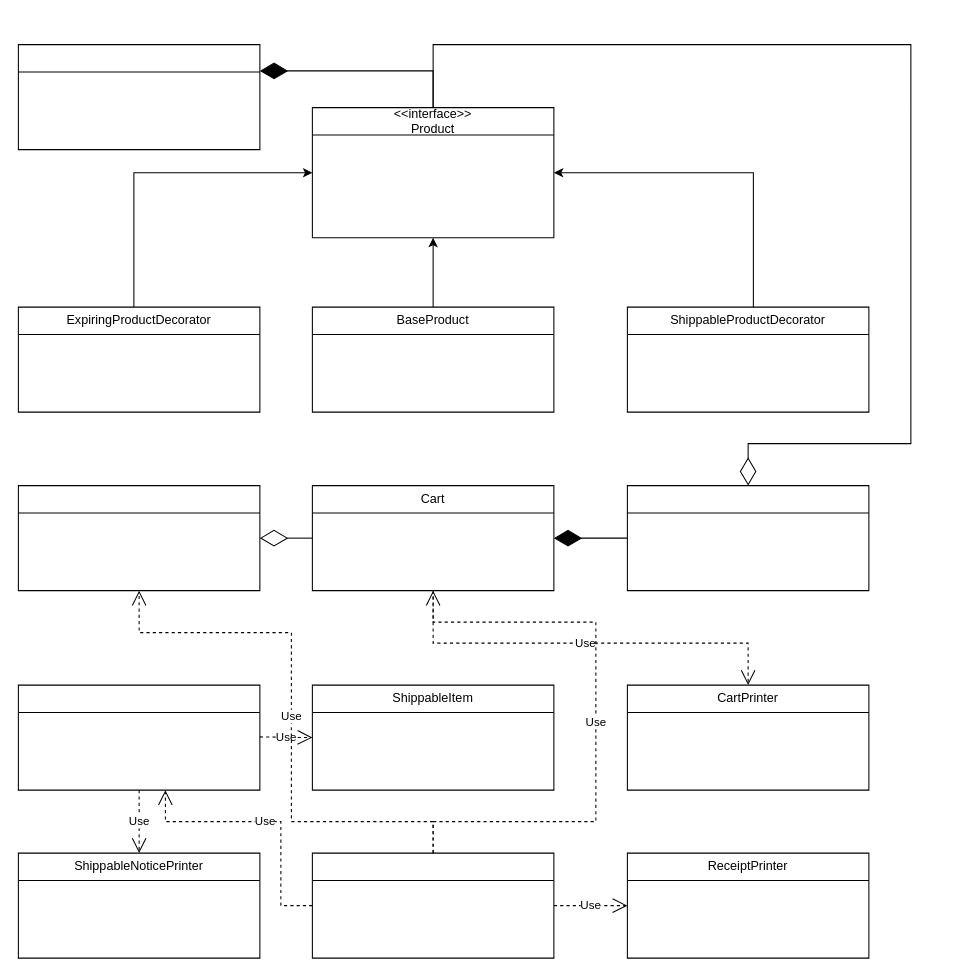
This 957x976 diagram has some shape labels left out. The shapes that lost their labels are listed below. From the top down, each one's box as (x1, y1, x2, y2) in pixels, then its label:
(17, 44, 260, 150): ProductCatalog
(17, 485, 260, 591): Customer
(626, 485, 869, 591): CartItem
(17, 684, 260, 790): ShippingService
(311, 852, 554, 958): CheckoutService
